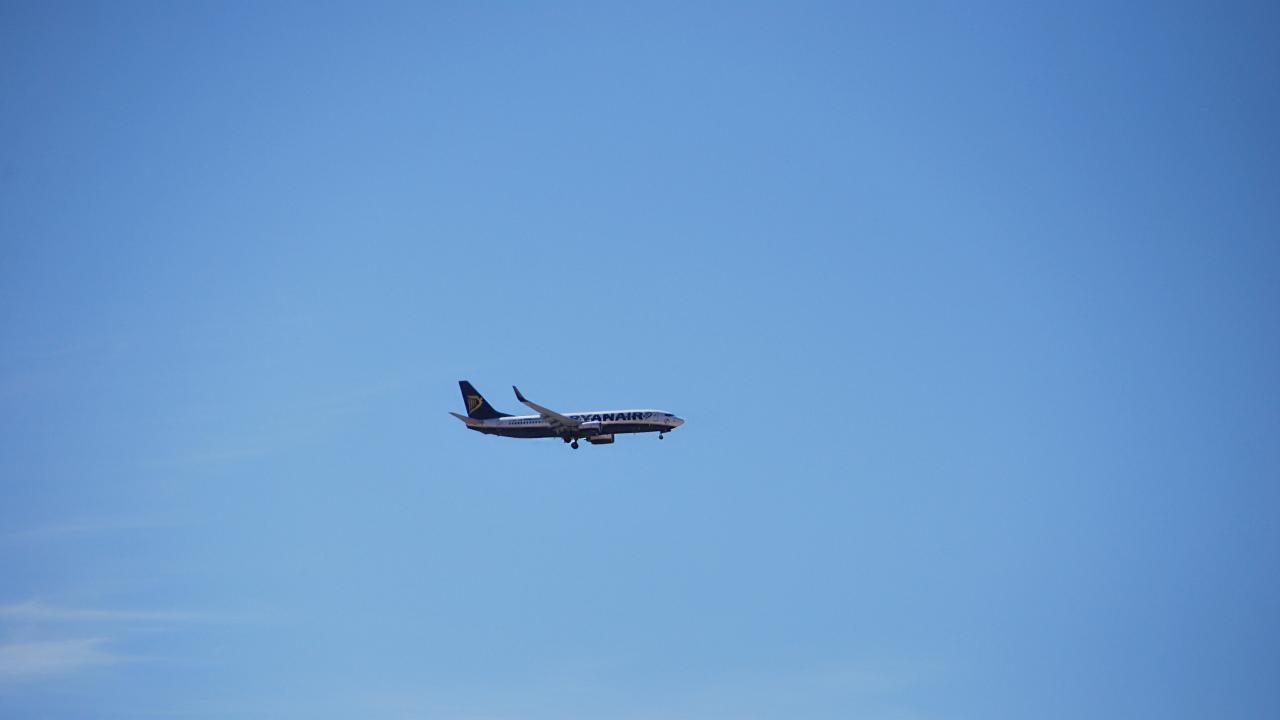Airplane: (430, 359, 697, 470)
